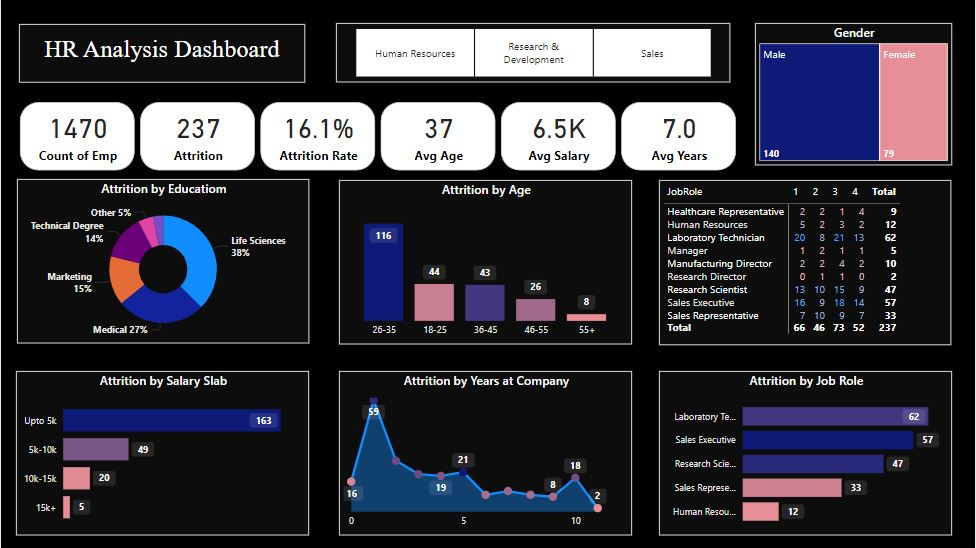

Layout of this report page (visuals, bound fields, positions):
{"tool":"powerbi","page":{"name":"Page 1","canvas":[1280,720],"ordinal":0},"visuals":[{"type":"cardVisual","fields":{"Data":["CountNonNull(HR_Analytics.EmpID)","Sum(HR_Analytics.AttritionCount)","HR_Analytics.AttritonRate","Avg(HR_Analytics.Age)","Avg(HR_Analytics.MonthlyIncome)","Avg(HR_Analytics.YearsAtCompany)"]},"box":[19.3,108.7,956.6,140.4],"z":0},{"type":"donutChart","title":"Attrition by Educatiom","fields":{"Category":["HR_Analytics.EducationField"],"Y":["Sum(HR_Analytics.AttritionCount)"]},"box":[20.6,235.4,384,216.1],"z":1000},{"type":"clusteredColumnChart","title":"Attrition by Age","fields":{"Category":["HR_Analytics.AgeGroup"],"Y":["Sum(HR_Analytics.AttritionCount)"]},"box":[444.6,236.7,385.4,216.1],"z":2000},{"type":"pivotTable","fields":{"Rows":["HR_Analytics.JobRole"],"Columns":["HR_Analytics.JobSatisfaction"],"Values":["Sum(HR_Analytics.AttritionCount)"]},"box":[864.3,236.7,384,217.5],"z":3000},{"type":"clusteredBarChart","title":"Attrition by Salary Slab","fields":{"Category":["HR_Analytics.SalarySlab"],"Y":["Sum(HR_Analytics.AttritionCount)"]},"box":[19.3,487.2,385.4,216.1],"z":4000},{"type":"clusteredBarChart","title":"Attrition by Job Role","fields":{"Y":["Sum(HR_Analytics.AttritionCount)"],"Category":["HR_Analytics.JobRole"]},"box":[864.3,487.2,385.4,216.1],"z":5000},{"type":"areaChart","title":"Attrition by Years at Company","fields":{"Category":["HR_Analytics.YearsAtCompany"],"Y":["Sum(HR_Analytics.AttritionCount)"]},"box":[444.6,487.2,385.4,216.1],"z":6000},{"type":"textbox","box":[23.4,31.7,375.7,77.1],"z":9000},{"type":"slicer","fields":{"Values":["HR_Analytics.Department"]},"box":[440.4,30.3,517.5,78.5],"z":9001},{"type":"treemap","title":"Gender","fields":{"Group":["HR_Analytics.Gender"],"Values":["Sum(HR_Analytics.AttritionCount)"]},"box":[991,30.3,258.8,187.2],"z":9002}]}

Visuals, with their boxes in screenshot pixels (x1, y1, x2, y2), scaled from the page's 1280x720 canvas onto the 976x548 screenshot:
cardVisual - CountNonNull(HR_Analytics.EmpID) x Sum(HR_Analytics.AttritionCount): [x1=15, y1=83, x2=744, y2=190]
"Attrition by Educatiom" donutChart: [x1=16, y1=179, x2=309, y2=344]
"Attrition by Age" clusteredColumnChart: [x1=339, y1=180, x2=633, y2=345]
pivotTable - HR_Analytics.JobRole x HR_Analytics.JobSatisfaction: [x1=659, y1=180, x2=952, y2=346]
"Attrition by Salary Slab" clusteredBarChart: [x1=15, y1=371, x2=309, y2=535]
"Attrition by Job Role" clusteredBarChart: [x1=659, y1=371, x2=953, y2=535]
"Attrition by Years at Company" areaChart: [x1=339, y1=371, x2=633, y2=535]
textbox: [x1=18, y1=24, x2=304, y2=83]
slicer - HR_Analytics.Department: [x1=336, y1=23, x2=730, y2=83]
"Gender" treemap: [x1=756, y1=23, x2=953, y2=166]
